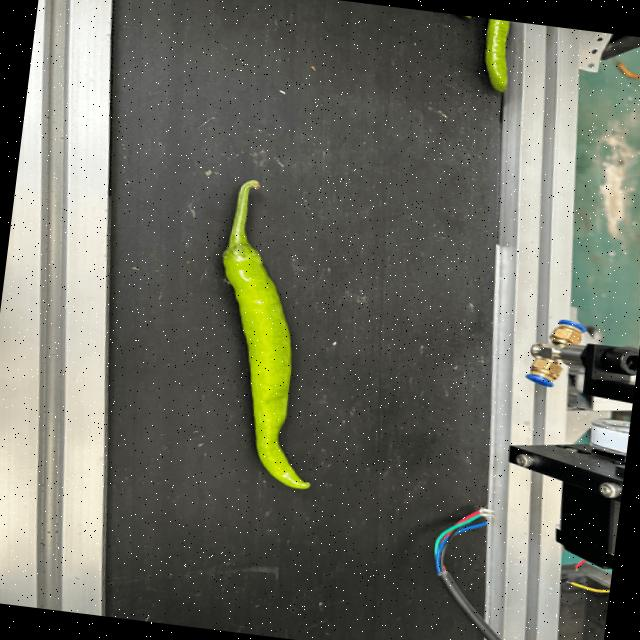chili: (218, 238, 314, 490)
